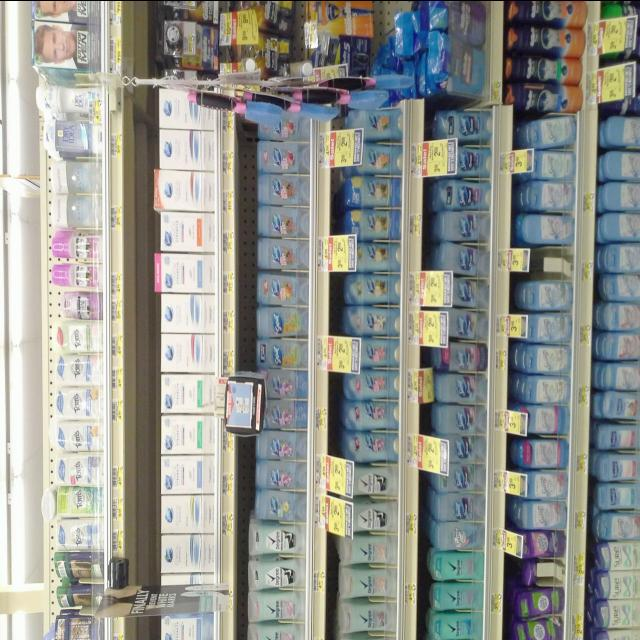empty_space: (532, 247, 572, 281)
